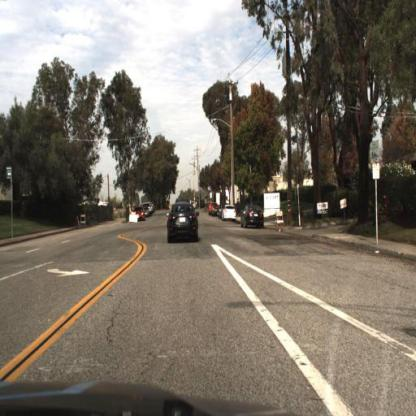car: (167, 200, 200, 243), (239, 203, 266, 230), (221, 205, 239, 226), (134, 203, 147, 224)
